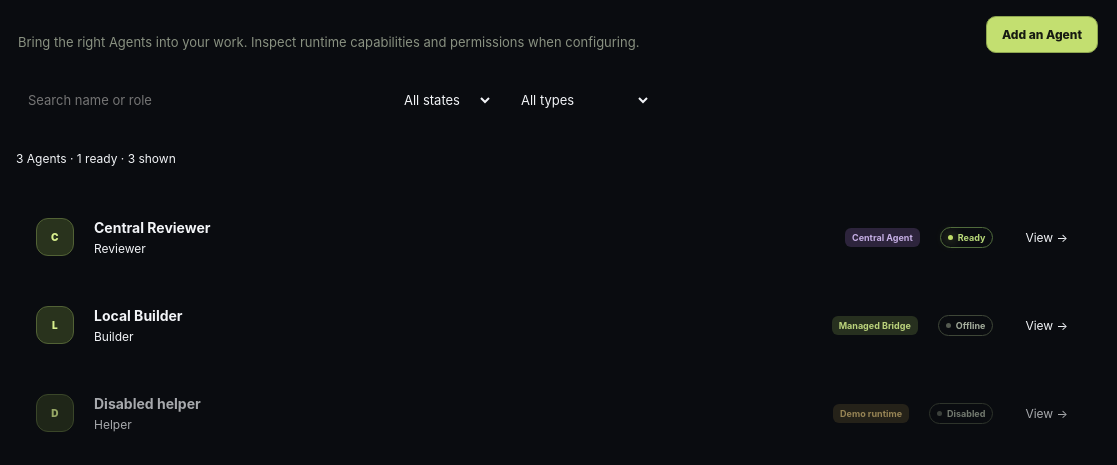
inventory does not mount any configuration or pairing flow and filters without requests
This screenshot has width=1117, height=465.
Type "builder" into the search field named "Search Agents" at (196, 100), box [16,82,376,118]
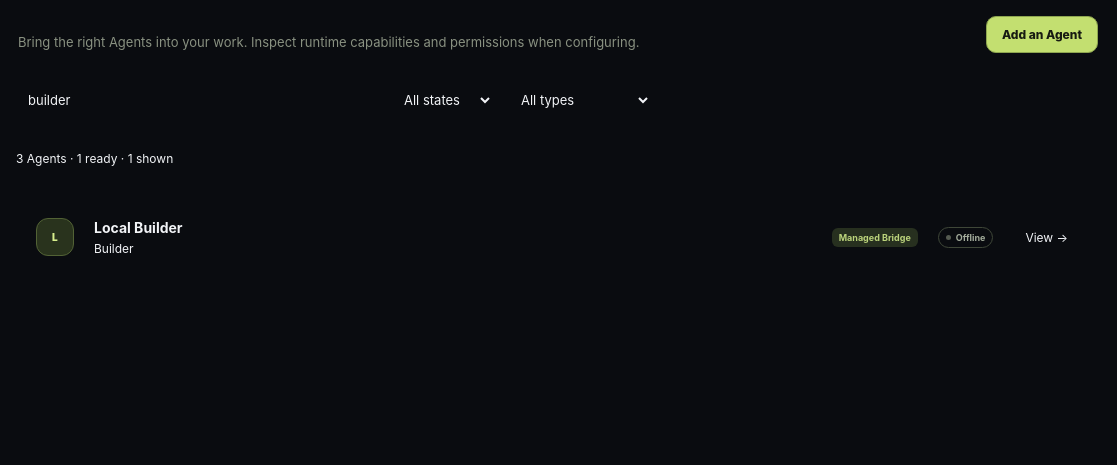
Check: the button with aria-label "View Local Builder" is shown, box [1013,222,1080,253]
Select "Ready" in the dropdown named "Agent status" at (440, 100), box [388,81,493,119]
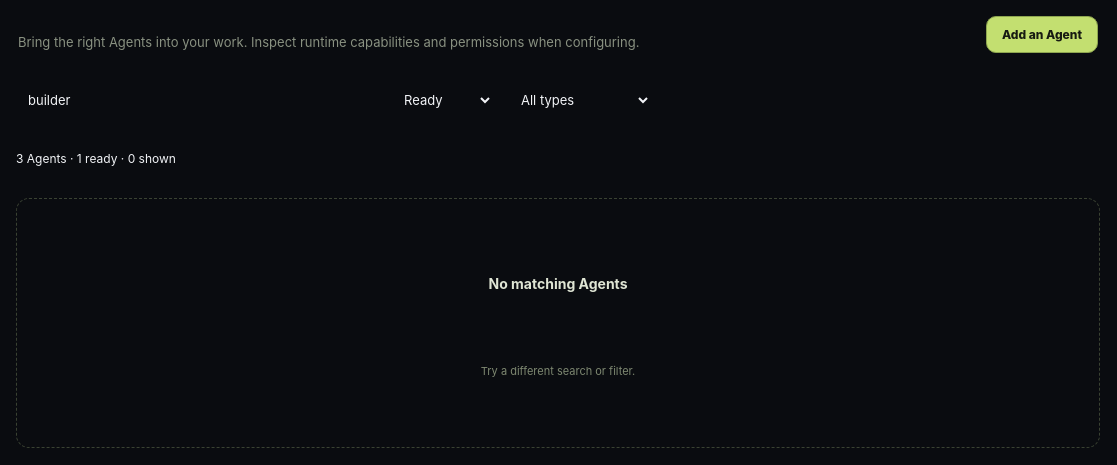
Check: the text "No matching Agents" is shown, box [488,275,628,292]
Clear the search field named "Search Agents" at (196, 100), box [16,82,376,118]
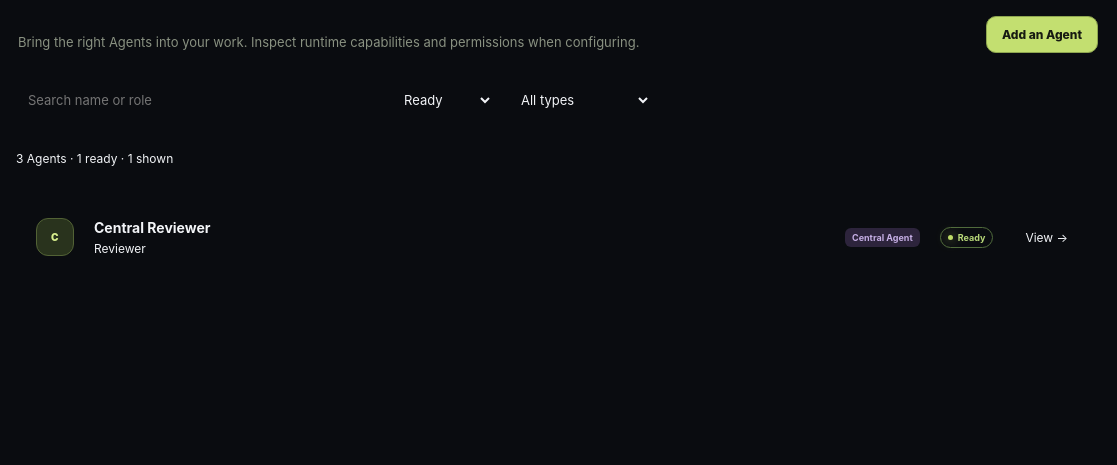
Check: the button with aria-label "View Central Reviewer" is shown, box [1013,222,1080,253]
Select "Managed Bridge" in the dropdown named "Integration type" at (578, 100), box [505,81,651,119]
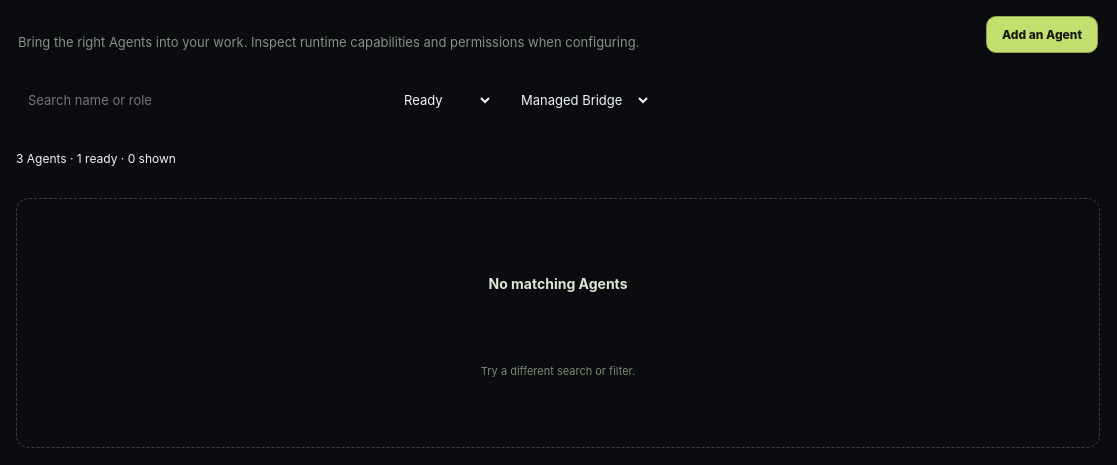
Check: the text "No matching Agents" is shown, box [488,275,628,292]
